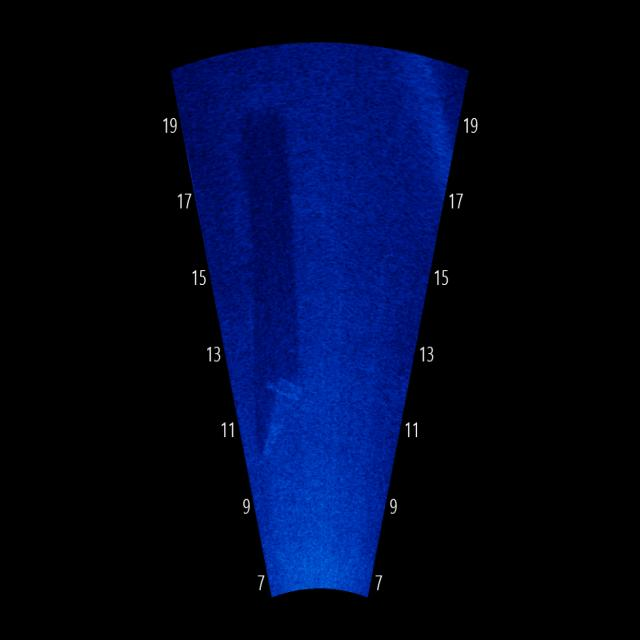triangle: (257, 368, 302, 468)
